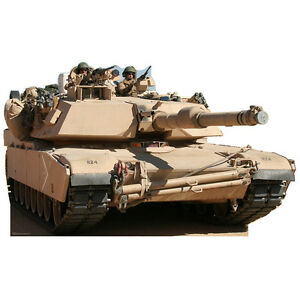Battle Tank: (4, 75, 296, 229)
